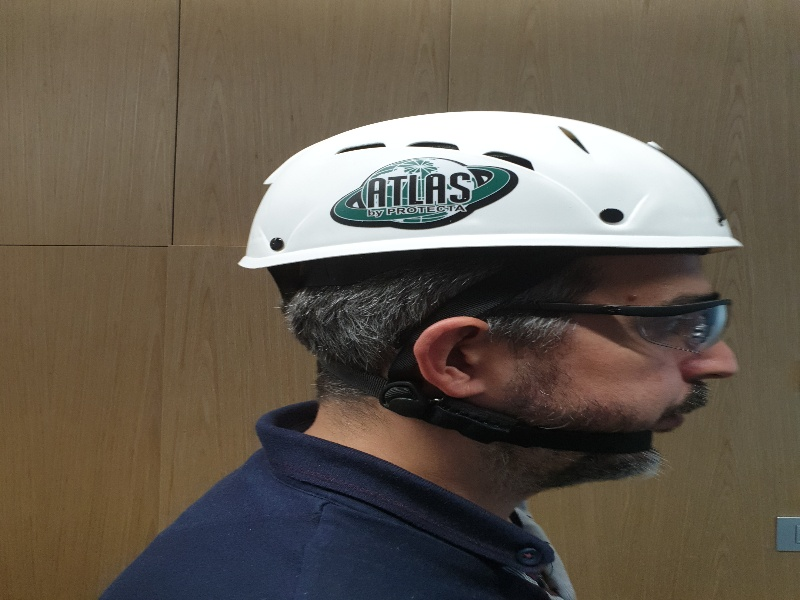Baret: (239, 111, 745, 267)
Gozluk: (469, 295, 734, 354)
